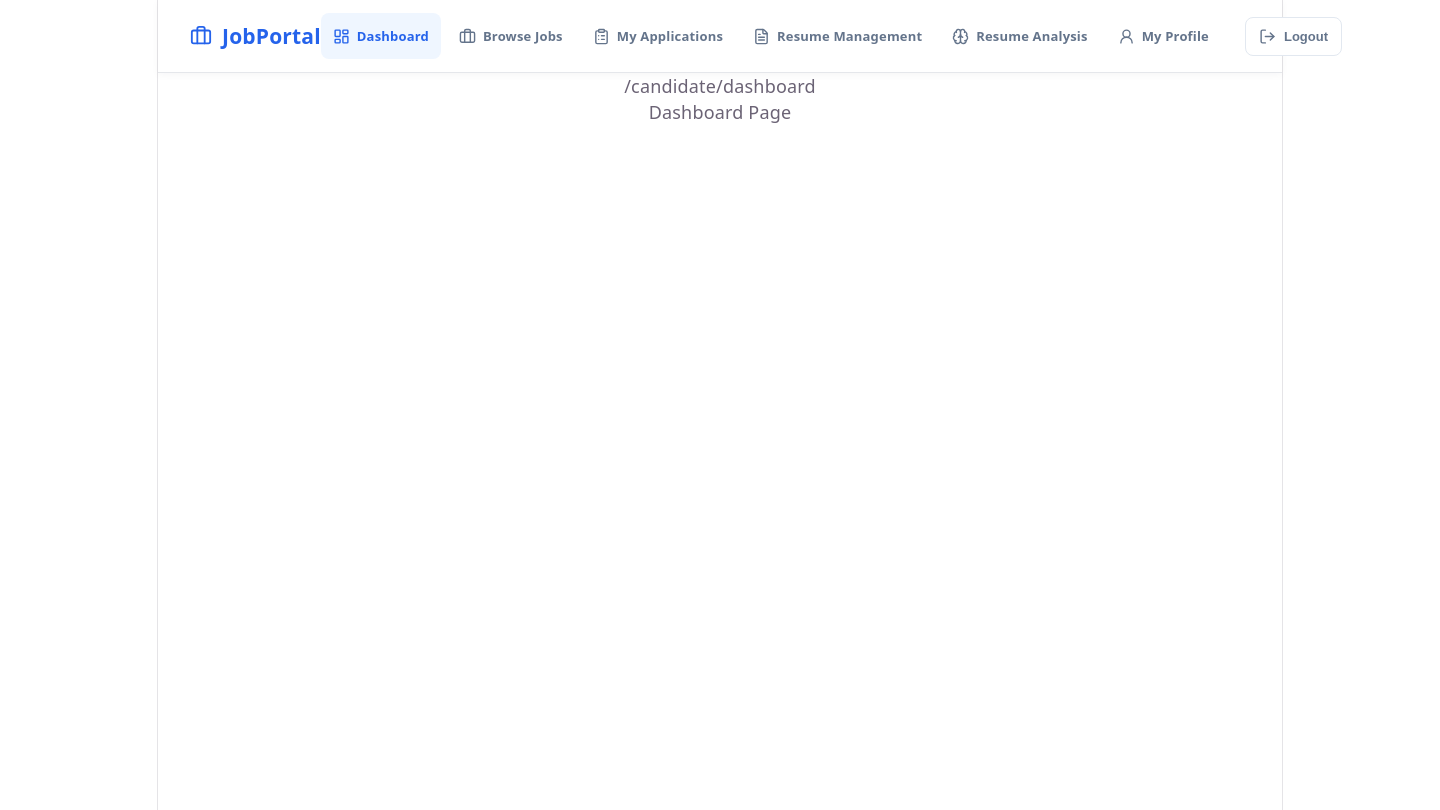
Scenario: CandidateNavbar › navigates to Resume Analysis
What coordinates should you click on to do the following:
click the link "Resume Analysis"
I would click on:
 (1020, 36)
Its box is [952,27,1088,45].
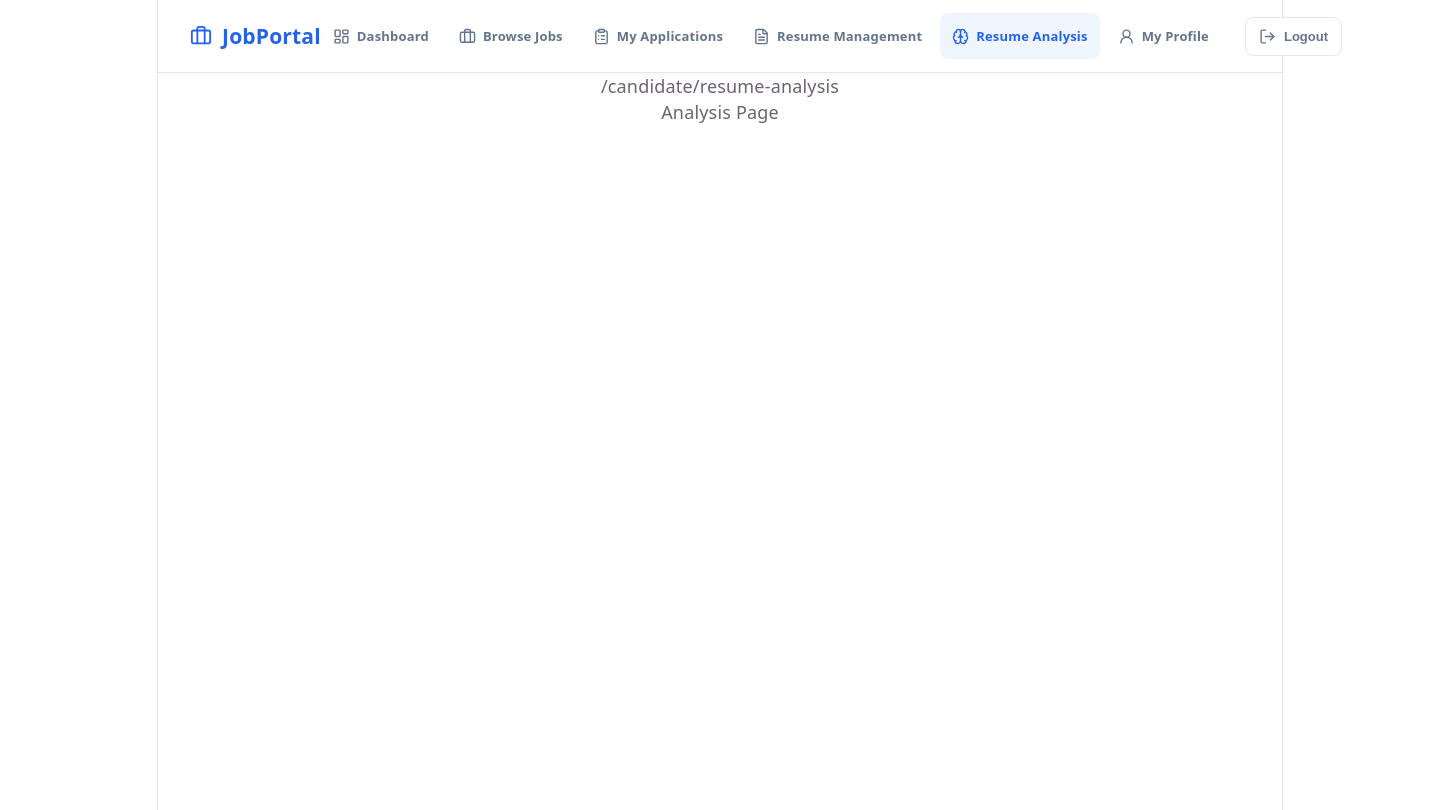
Expected: the text with test id "current-location" reads "/candidate/resume-analysis", [601,74,839,98]
